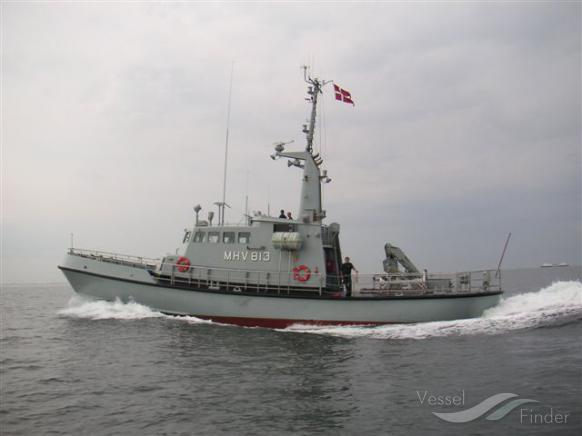OCR: (217, 250, 274, 266)
